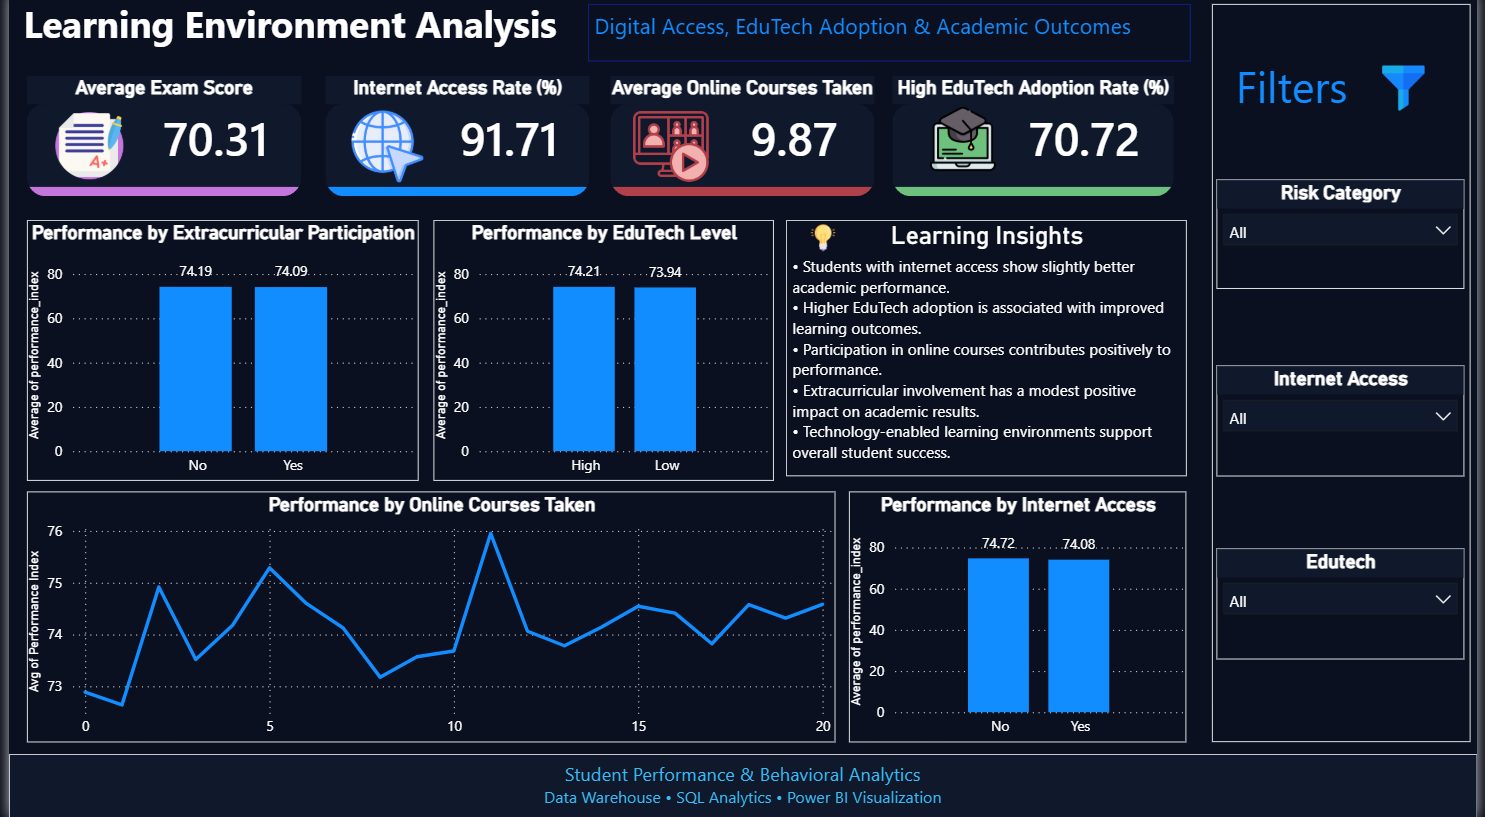

What the dashboard file says about the page in this screenshot:
{"tool":"powerbi","page":{"name":"Learning  Environment Analysis","canvas":[1280,720],"ordinal":2},"visuals":[{"type":"shape","box":[1048.6,10.5,225,643],"z":0},{"type":"clusteredColumnChart","title":"Performance by Extracurricular Participation","fields":{"Y":["Avg(Fact_Performance.performance_index)"],"Category":["Dim_Environment.extracurricular"]},"box":[15.7,198.7,341.3,227.5],"z":1000},{"type":"clusteredColumnChart","title":"Performance by EduTech Level","fields":{"Category":["Dim_Environment.edutech"],"Y":["Avg(Fact_Performance.performance_index)"]},"box":[370,198.7,296.8,227.5],"z":2000},{"type":"clusteredColumnChart","title":"Performance by Internet Access","fields":{"Y":["Avg(educational_bi_framework fact_performance.performance_index)"],"Category":["Dim_Environment.internet_access"]},"box":[732.2,435.4,294.2,218.4],"z":3000},{"type":"lineChart","title":"Performance by Online Courses Taken","fields":{"Y":["Avg(educational_bi_framework fact_performance.performance_index)"],"Category":["Dim_Environment.online_courses"]},"box":[15.7,435.4,704.8,218.4],"z":4000},{"type":"slicer","title":"Risk Category","fields":{"Values":["educational_bi_framework fact_performance.risk_category"]},"box":[1052.6,163.4,215.7,95.4],"z":5000},{"type":"slicer","title":"Edutech","fields":{"Values":["Dim_Environment.edutech"]},"box":[1052.6,485.1,215.7,96.8],"z":6000},{"type":"slicer","title":"Internet Access","fields":{"Values":["Dim_Environment.internet_access"]},"box":[1052.6,325.6,215.7,96.8],"z":7000},{"type":"textbox","box":[0,0,489.7,73.1],"z":8000},{"type":"textbox","box":[505.3,10.9,525.5,49.7],"z":9000},{"type":"cardVisual","title":"Internet Access Rate (%)","fields":{"Data":["Dim_Environment.Internet Access Rate %"]},"box":[275.9,73.2,230.1,104.6],"z":10000},{"type":"cardVisual","title":"Average Online Courses Taken","fields":{"Data":["Avg(Dim_Environment.online_courses)"]},"box":[524.3,73.2,230.1,104.6],"z":11000},{"type":"cardVisual","title":"High EduTech Adoption Rate (%)","fields":{"Data":["Dim_Environment.High EduTech Rate %"]},"box":[770.7,72.7,245.3,104.5],"z":12000},{"type":"image","box":[524.3,100.7,105.9,68],"z":13000},{"type":"image","box":[770.7,99.9,122.7,57.5],"z":14000},{"type":"textbox","box":[1063.8,51.2,216.2,63.8],"z":15000},{"type":"image","box":[1157.2,64.1,116.4,39.2],"z":16000},{"type":"textbox","box":[0,664.2,1280,56],"z":17000},{"type":"cardVisual","title":"Average Exam Score","fields":{"Data":["Avg(Fact_Performance.exam_score)"]},"box":[15.1,72.7,239.2,104.5],"z":18000},{"type":"image","box":[275.9,103.3,108.5,62.8],"z":19000},{"type":"image","box":[15.7,104.6,108.5,58.8],"z":20000},{"type":"textbox","title":"Learning Insights","box":[677.3,198.7,349.1,223.6],"z":21000},{"type":"image","box":[677,202.5,65,23.5],"z":22000}]}

Visuals, with their boxes in screenshot pixels (x1, y1, x2, y2), scaled from the page's 1280x720 canvas onto the 1485x817 screenshot:
shape: bbox=[1217, 12, 1478, 742]
"Performance by Extracurricular Participation" clusteredColumnChart: bbox=[18, 225, 414, 484]
"Performance by EduTech Level" clusteredColumnChart: bbox=[429, 225, 774, 484]
"Performance by Internet Access" clusteredColumnChart: bbox=[849, 494, 1191, 742]
"Performance by Online Courses Taken" lineChart: bbox=[18, 494, 836, 742]
"Risk Category" slicer: bbox=[1221, 185, 1471, 294]
"Edutech" slicer: bbox=[1221, 550, 1471, 660]
"Internet Access" slicer: bbox=[1221, 369, 1471, 479]
textbox: bbox=[0, 0, 568, 83]
textbox: bbox=[586, 12, 1196, 69]
"Internet Access Rate (%)" cardVisual: bbox=[320, 83, 587, 202]
"Average Online Courses Taken" cardVisual: bbox=[608, 83, 875, 202]
"High EduTech Adoption Rate (%)" cardVisual: bbox=[894, 82, 1179, 201]
image: bbox=[608, 114, 731, 191]
image: bbox=[894, 113, 1036, 179]
textbox: bbox=[1234, 58, 1484, 130]
image: bbox=[1343, 73, 1478, 117]
textbox: bbox=[0, 754, 1484, 816]
"Average Exam Score" cardVisual: bbox=[18, 82, 295, 201]
image: bbox=[320, 117, 446, 188]
image: bbox=[18, 119, 144, 185]
"Learning Insights" textbox: bbox=[786, 225, 1191, 479]
image: bbox=[785, 230, 861, 256]
